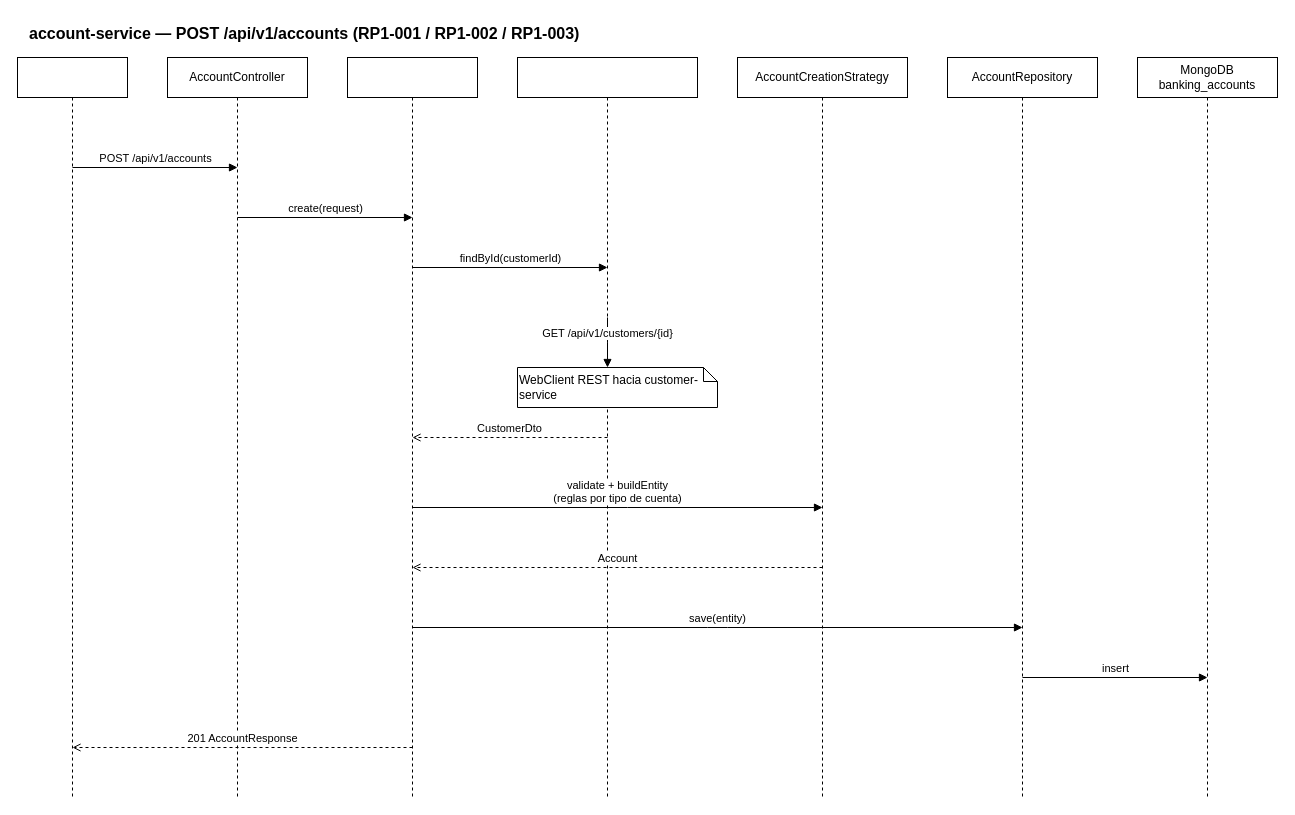
Some shapes in this 1295 by 815 pixel diagram are drawn without their labels. The shapes that lost their labels are listed below. From the top down, each one's box as (x1, y1, x2, y2) in pixels, then its label:
(16, 56, 128, 798): Postman
(346, 56, 478, 798): AccountService
(516, 56, 698, 798): CustomerClient customer-service :8081
